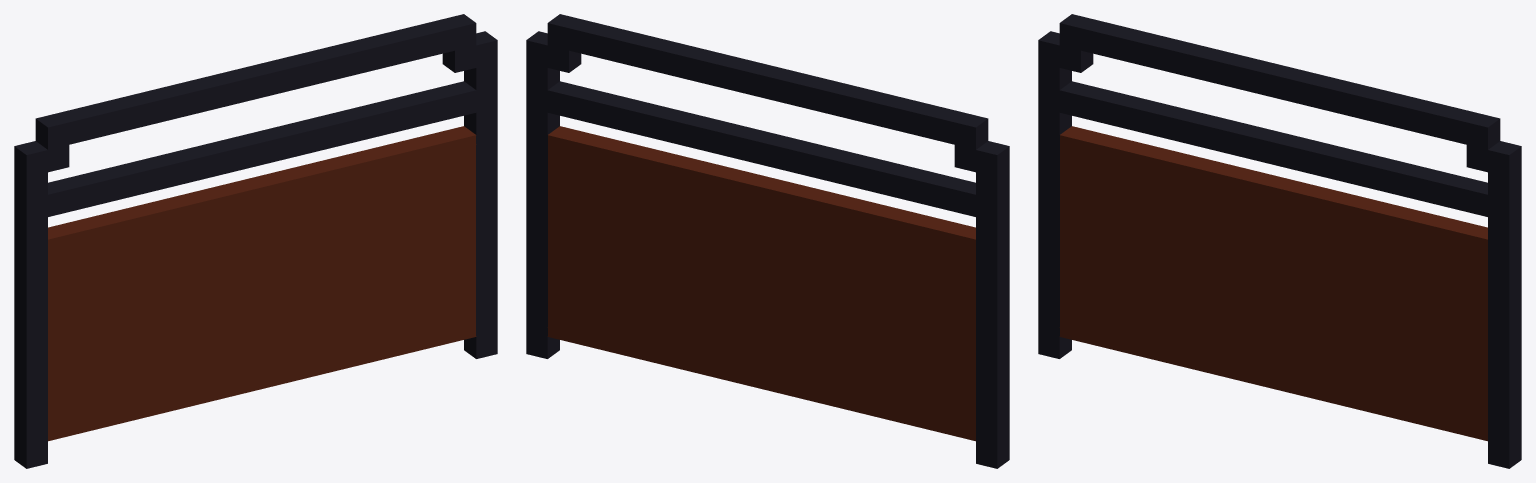
The model's file is PLOTEK_1_RAZ.dae.
The picture shows the model from 3 angles, left to right: view 1: azimuth 30°, elevation 25°; view 2: azimuth 150°, elevation 25°; view 3: azimuth 330°, elevation 25°; orthographic projection.
Parts seen in each view (by area): view 1: Content; view 2: Content; view 3: Content.
Part boxes in pixels (bbox=[...]): Content: bbox=[14, 14, 497, 468]; Content: bbox=[526, 14, 1009, 468]; Content: bbox=[1038, 14, 1521, 468].
Bounding box in the file's own units: 22 × 15 × 1.
1 material, 1 textured.
